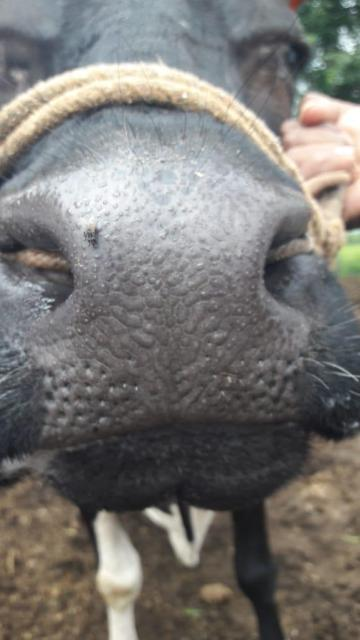Muzzle: (68, 185, 278, 428)
